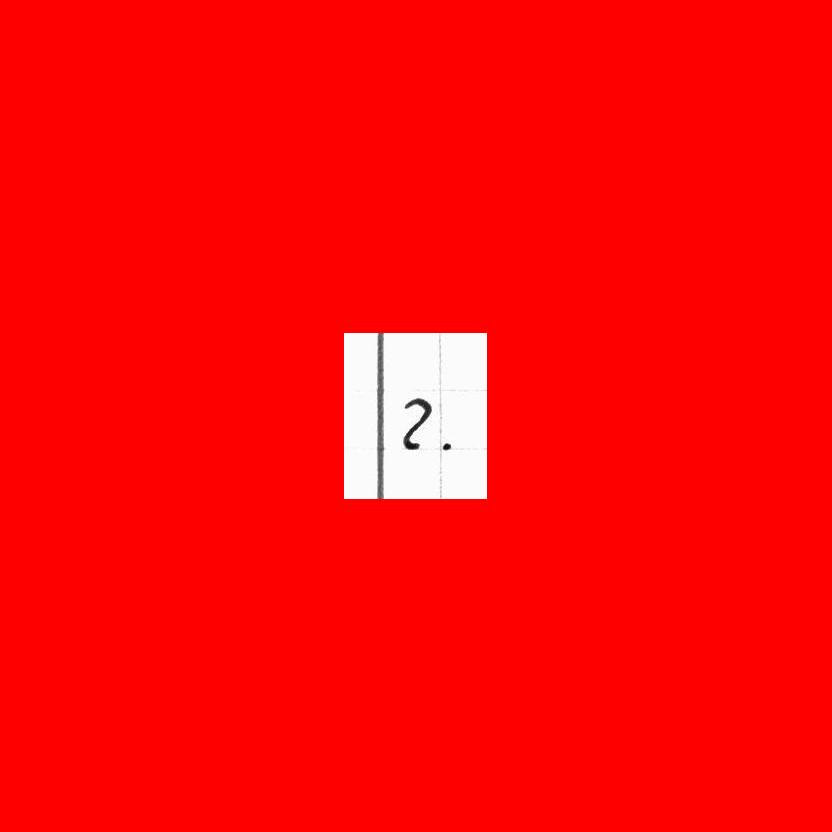Char: (364, 366, 392, 483), (399, 394, 434, 453), (437, 434, 455, 456)
